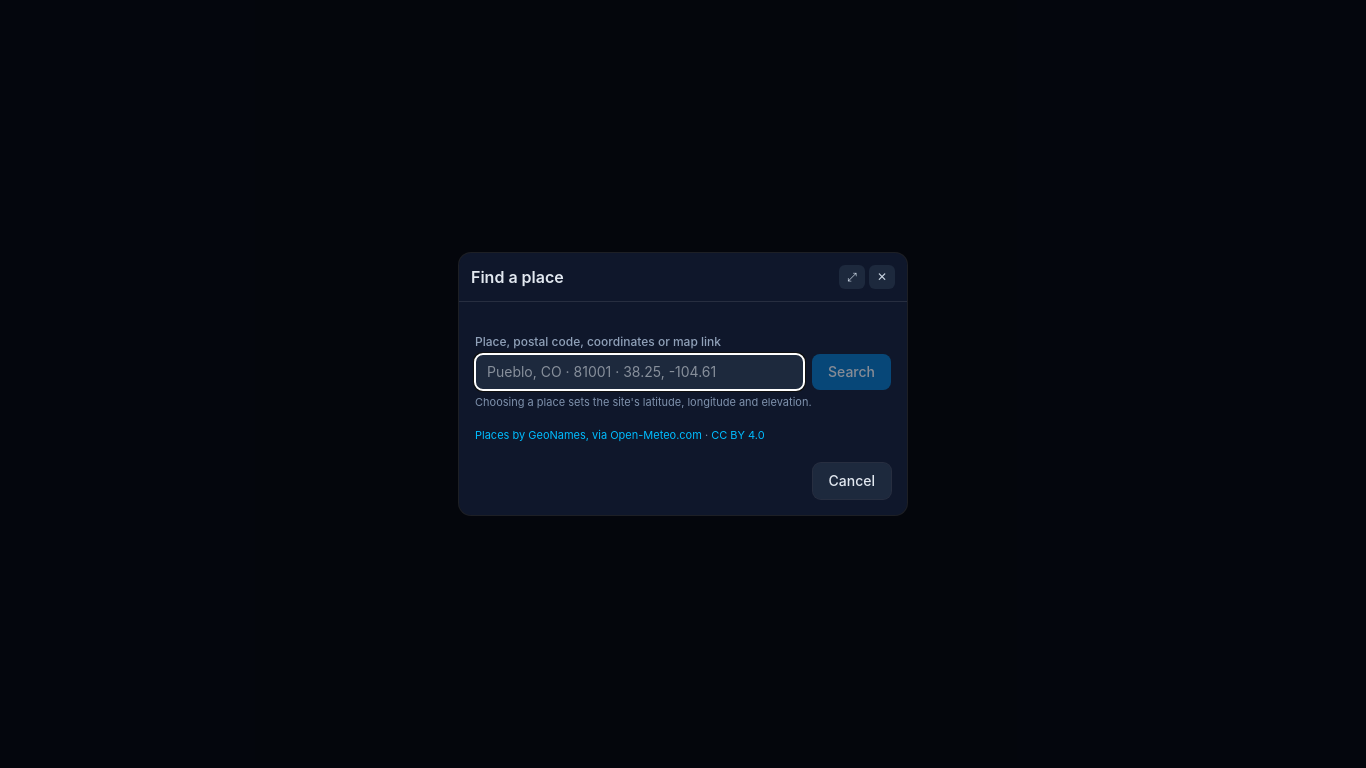
Test: PlaceSearchDialog offline › cannot search a name offline, but still reads pasted coordinates
Step 1. Type "Pueblo" into the field labelled "Place, postal code, coordinates or map link" → point(640, 372), box [475,354,804,390]
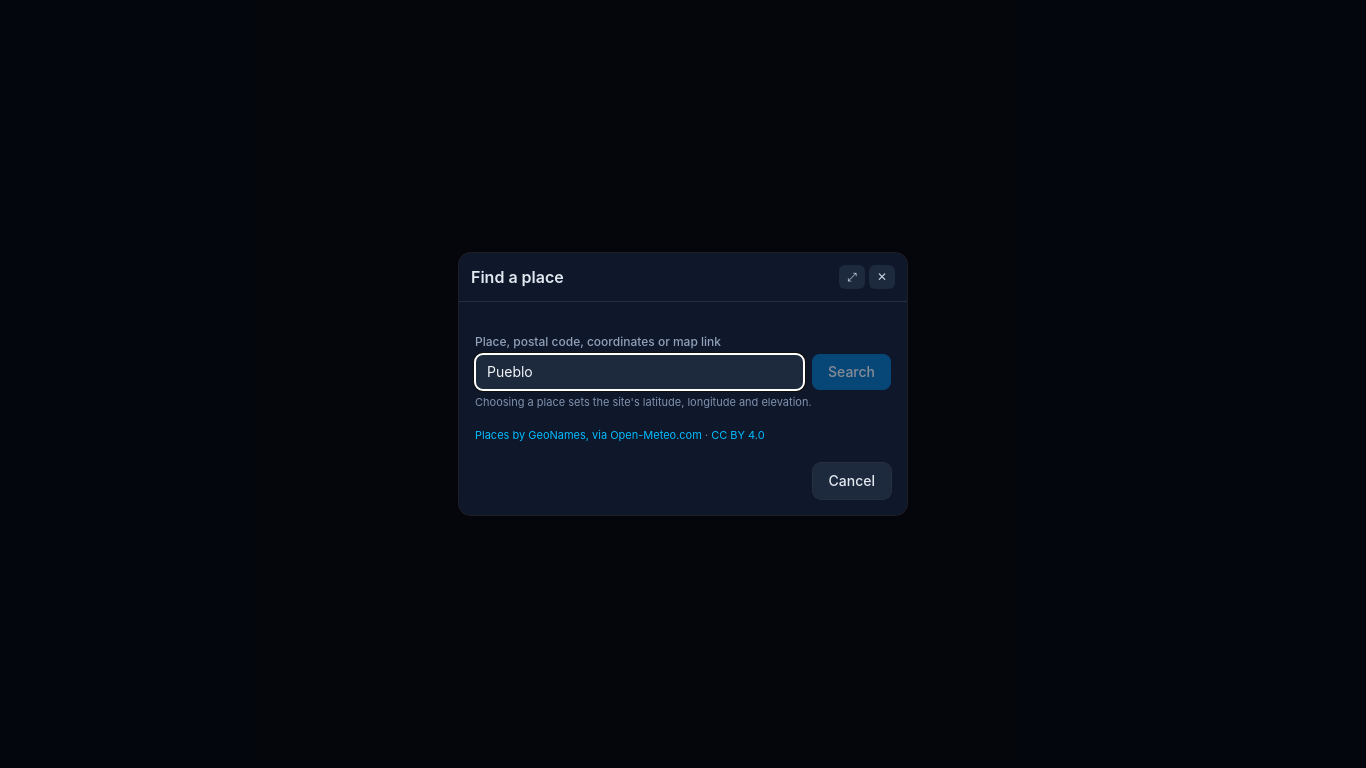
Check: the button "Search" is disabled, box [812,354,891,390]
Step 2. Replace the text in the field labelled "Place, postal code, coordinates or map link" with "38.25, -104.61" → point(640, 372), box [475,354,804,390]
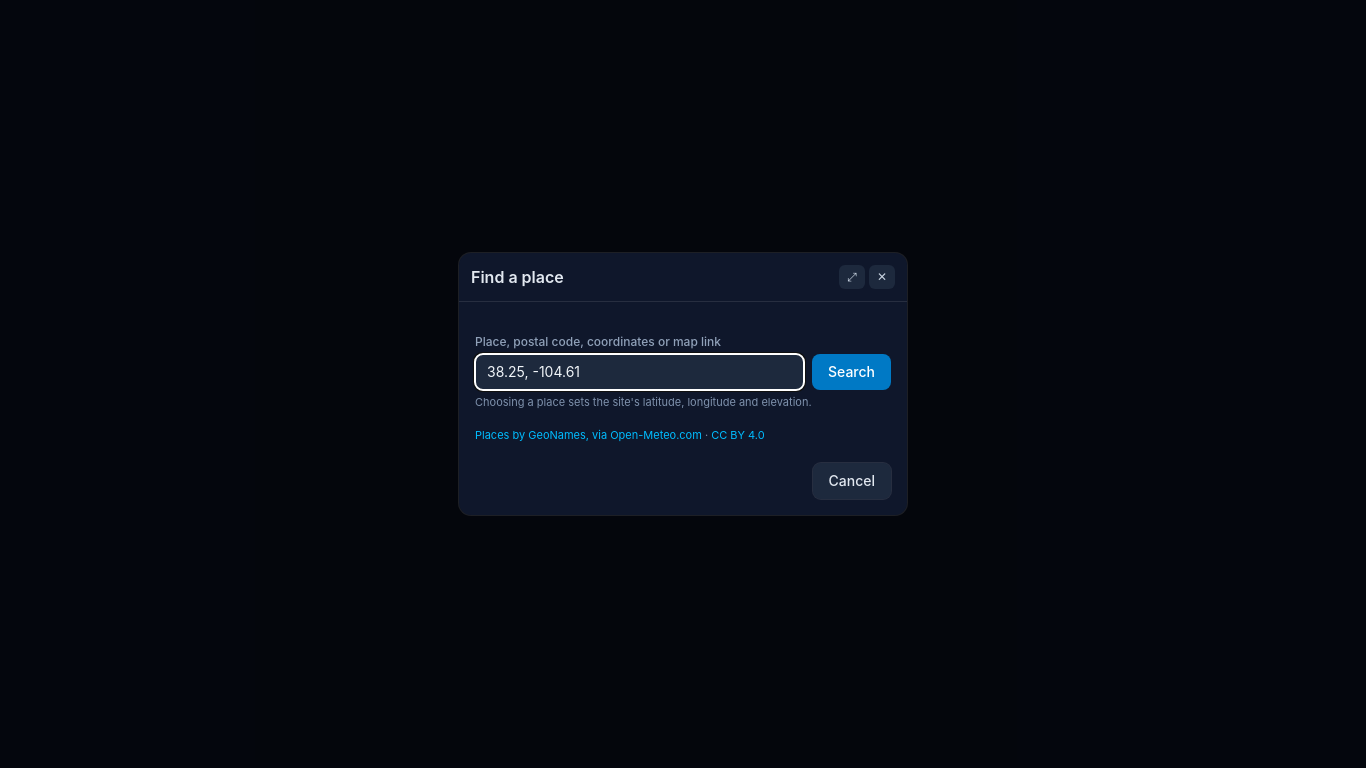
Check: the button "Search" is enabled, box [812,354,891,390]
